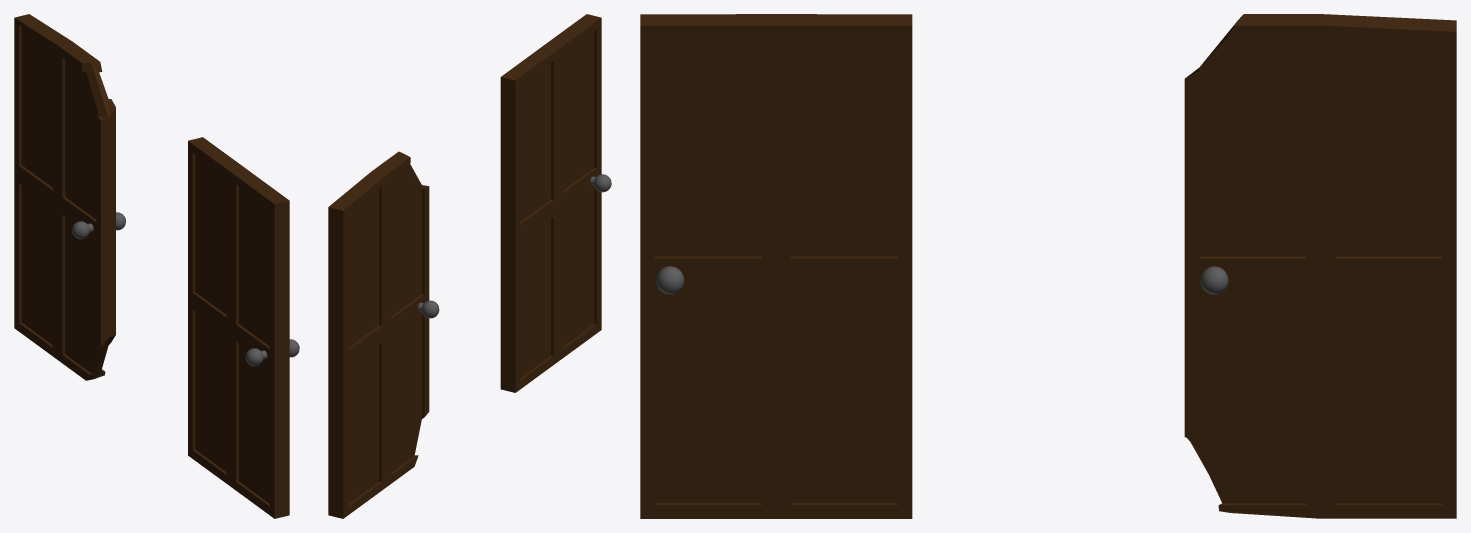
The model's file is door.fbx.
3 renders of one model, left to right at view 1: azimuth 30°, elevation 25°; view 2: azimuth 150°, elevation 25°; view 3: azimuth 270°, elevation 25°, orthographic. The views are drawn at different scales.
Parts seen in each view (by area): view 1: Door, Door Broken; view 2: Door, Door Broken; view 3: Door, Door Broken.
Boxes of the visible parts, <box> form: Door: <box>188,137,299,518</box>; Door Broken: <box>14,14,125,380</box>; Door: <box>500,14,611,392</box>; Door Broken: <box>328,151,439,518</box>; Door: <box>640,14,912,518</box>; Door Broken: <box>1184,14,1456,518</box>.
Size of the model in its own units: 34.52 by 200 by 300.
